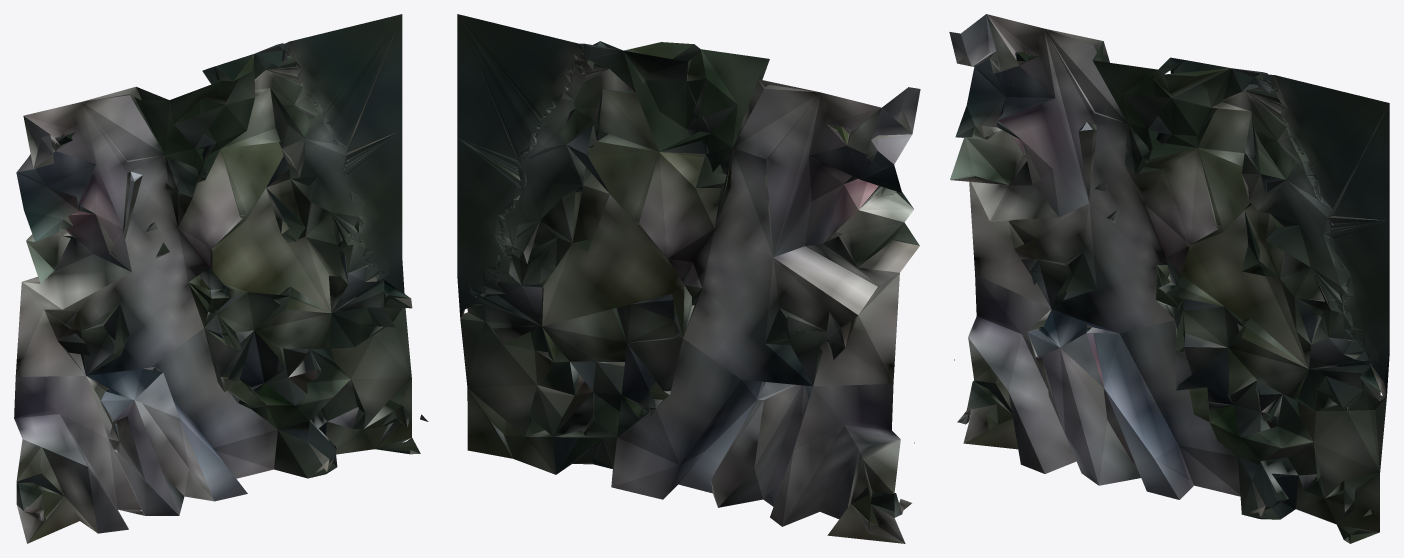
The model's file is Tile_+031_+024_L13.obj.
3 views of the same model, side by side, from view 1: azimuth 30°, elevation 25°; view 2: azimuth 150°, elevation 25°; view 3: azimuth 330°, elevation 25° (orthographic). The views are drawn at different scales.
Size of the model in its own units: 250 by 250 by 39.88.
Materials: 1 (1 with a texture image).
